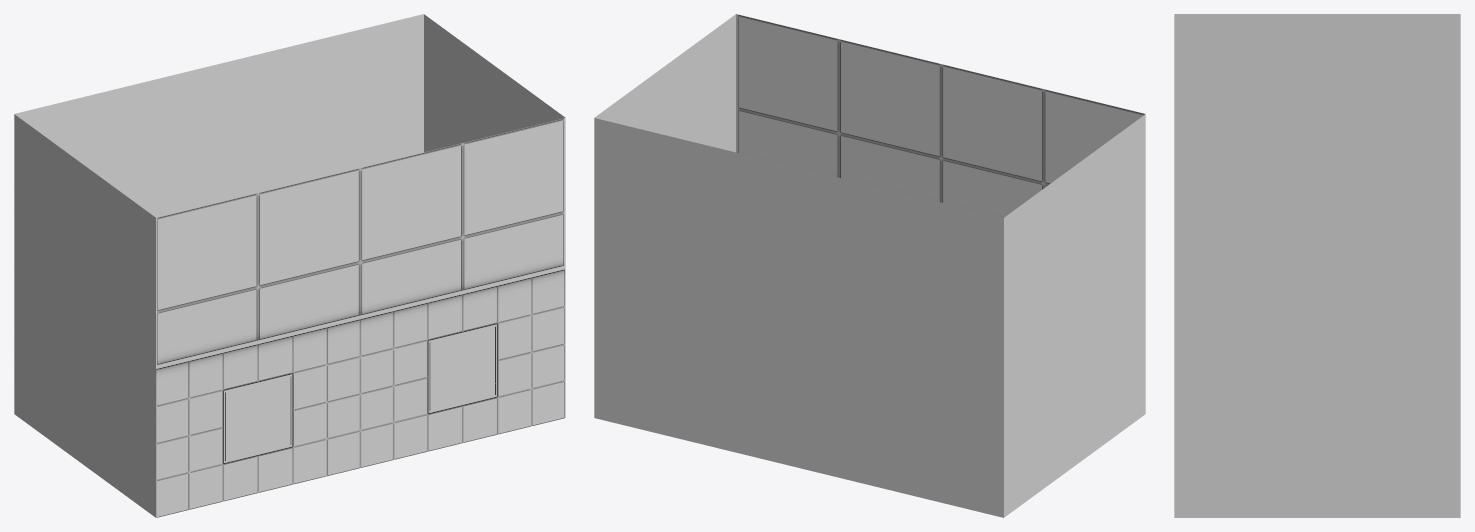
File: Building_Block.fbx
3 views of the same model, side by side, from view 1: azimuth 30°, elevation 25°; view 2: azimuth 150°, elevation 25°; view 3: azimuth 270°, elevation 25° (orthographic).
Parts seen in each view (by area): view 1: pCube3; view 2: pCube3; view 3: pCube3.
Boxes of the visible parts, box(x1,y1,x2,y2) form: pCube3: box(14, 14, 565, 517); pCube3: box(594, 14, 1145, 517); pCube3: box(1174, 14, 1460, 517).
Bounding box in the file's own units: 500 × 350 × 300.
